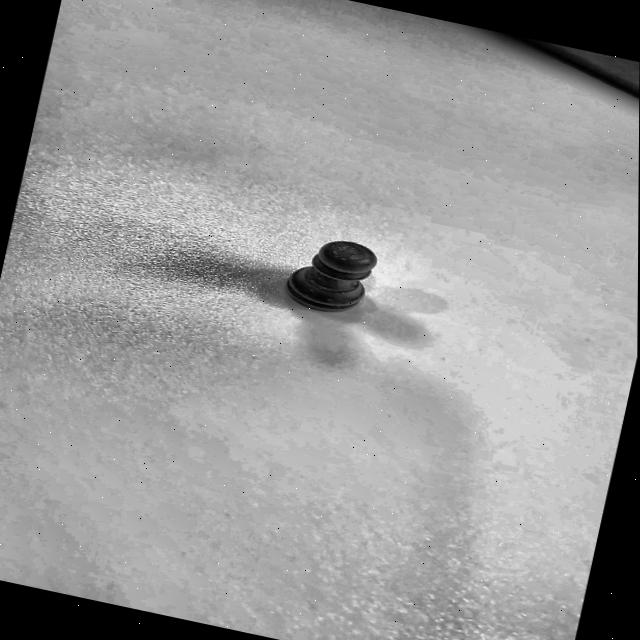black-pawn: (271, 225, 387, 322)
